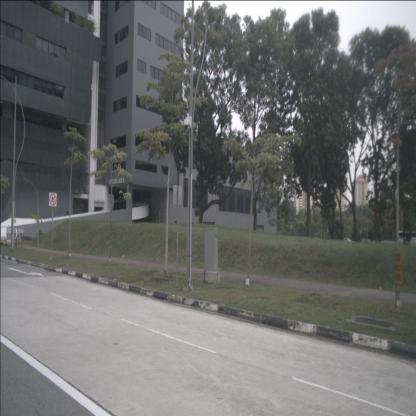vehicle-bicycle: (12, 230, 23, 247)
vehicle-bus-rigid: (396, 230, 416, 249)
